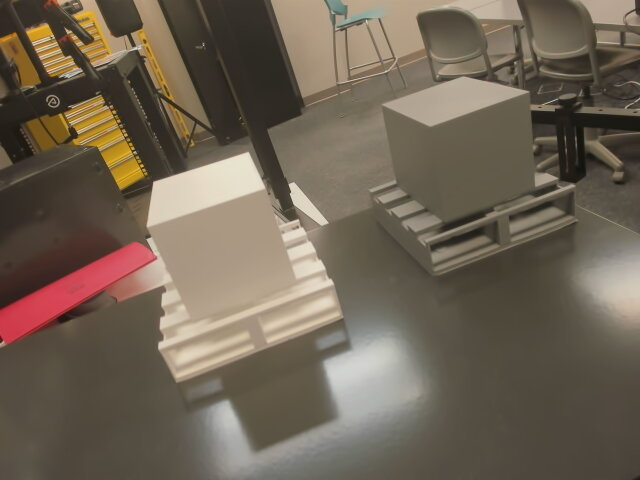grey pallet: (367, 73, 582, 278)
white pallet: (146, 149, 350, 384)
